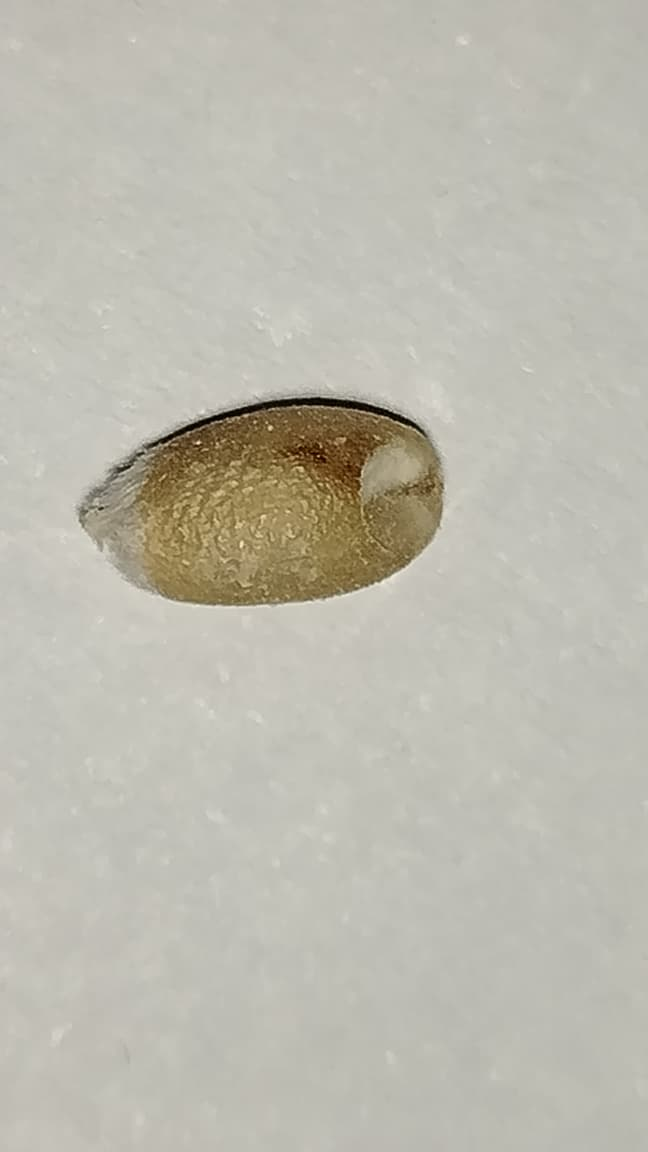damage: (80, 400, 443, 602)
insectdamage: (356, 426, 460, 557)
staindamage: (280, 421, 383, 488)
